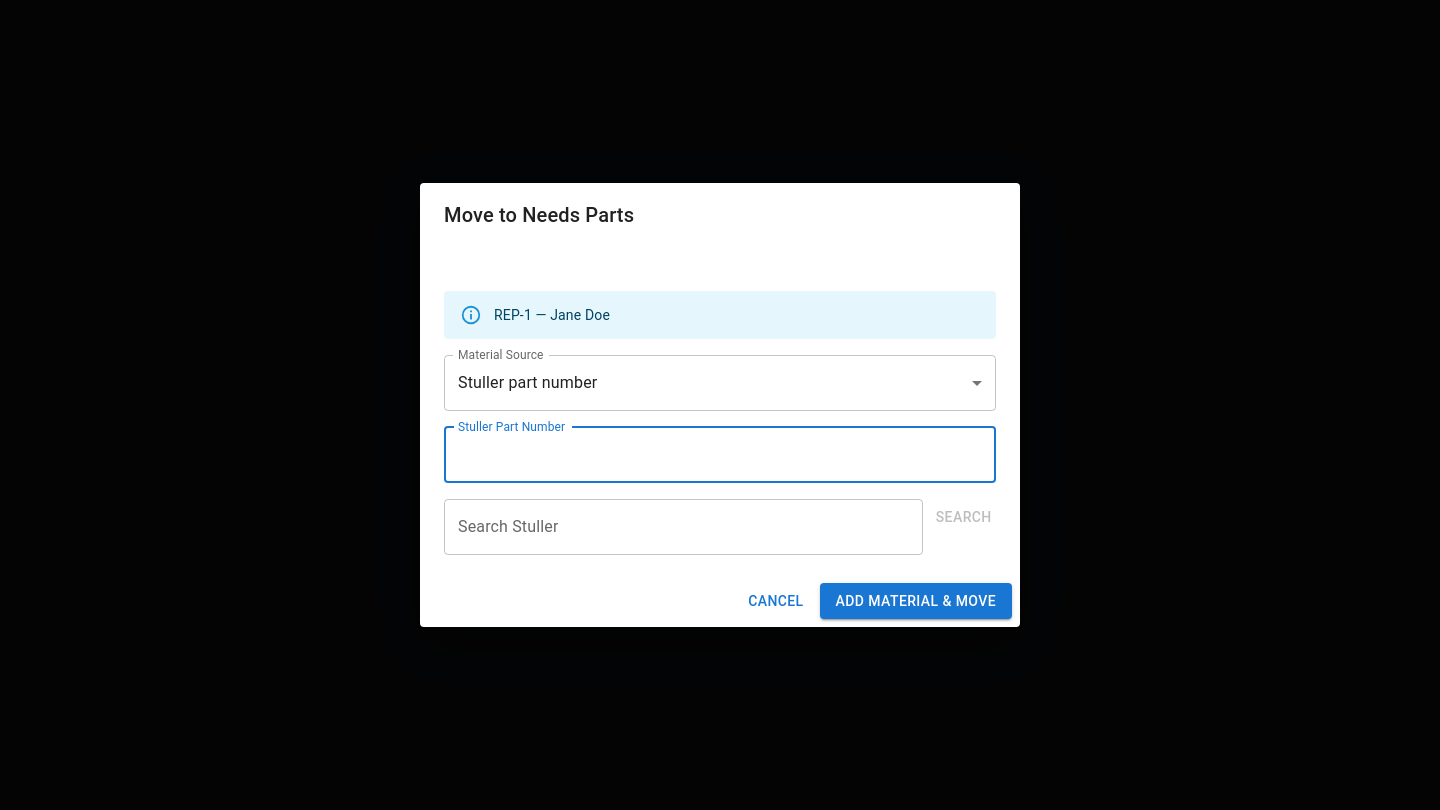
Test: finding a part at the bench › shows the failure rather than an empty list
This screenshot has width=1440, height=810.
In the field labelled "Search Stuller": [684, 527] box [444, 499, 923, 555], type "half shank"
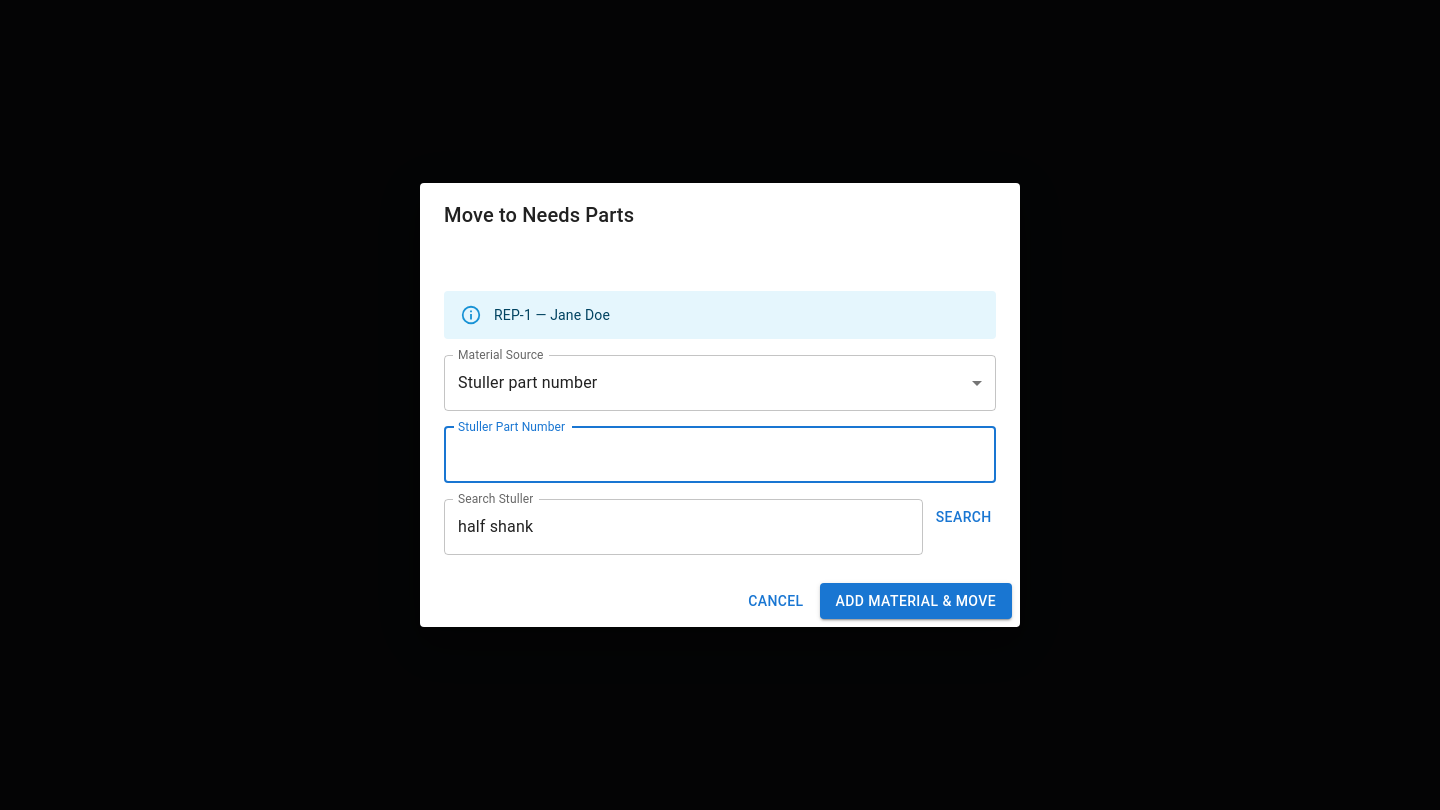
Click the button "Search": [964, 517] box [931, 499, 996, 535]
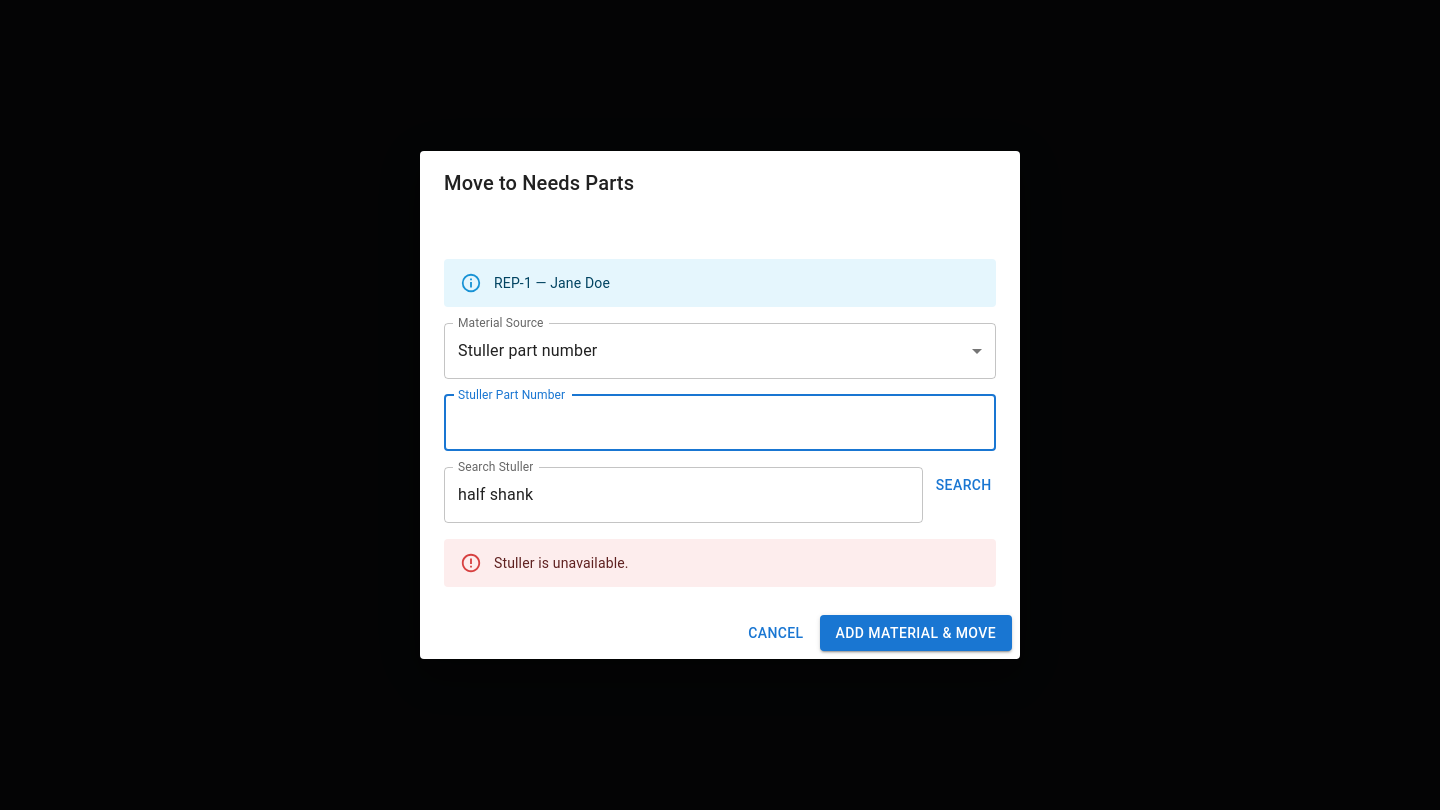
Now the text "Stuller is unavailable." is shown, box [494, 555, 629, 571]
